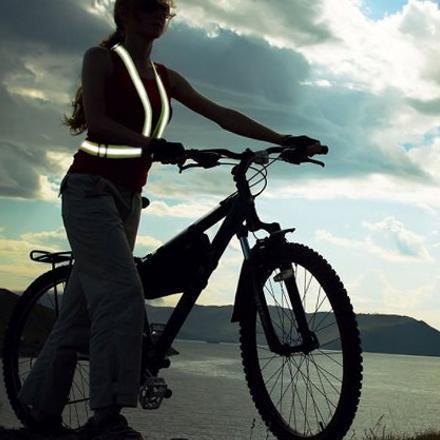Vest: (76, 46, 173, 170)
